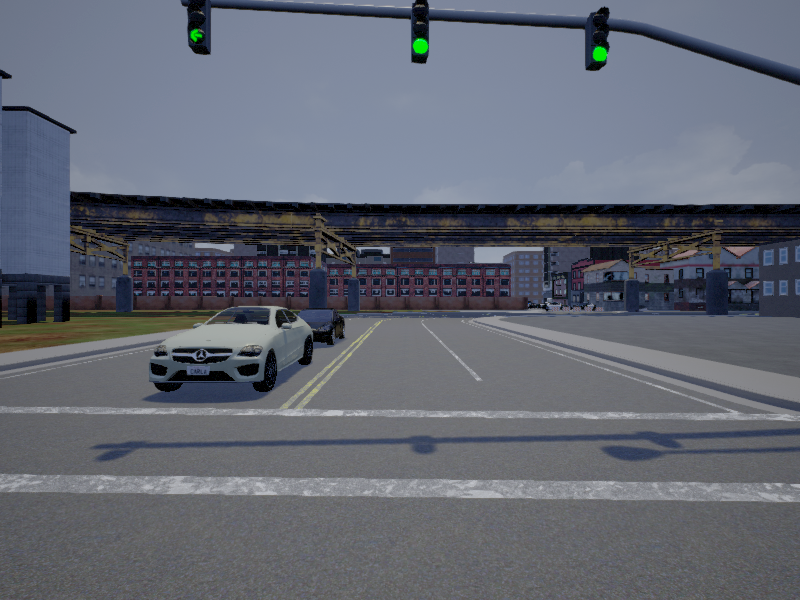Benign: (147, 304, 314, 392), (300, 308, 345, 347)
